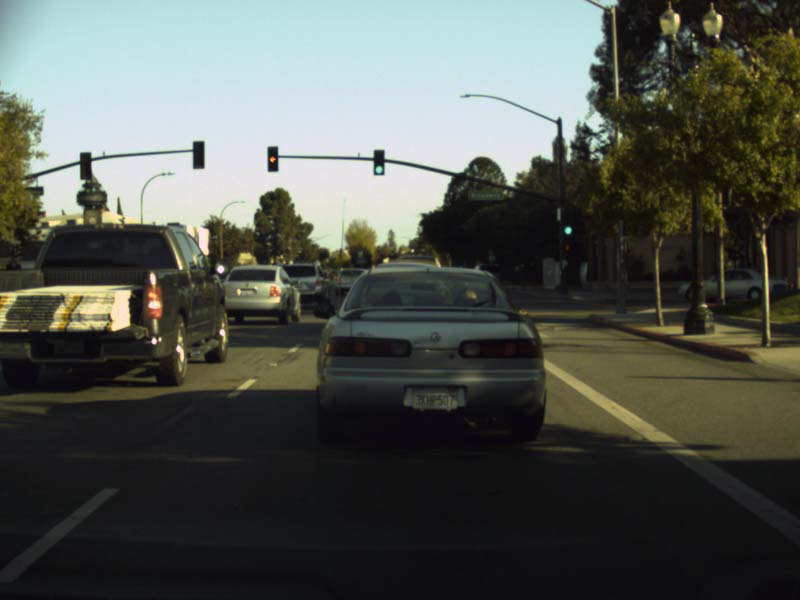Green: (373, 151, 384, 175), (563, 212, 573, 235)
Red: (266, 146, 277, 170)
